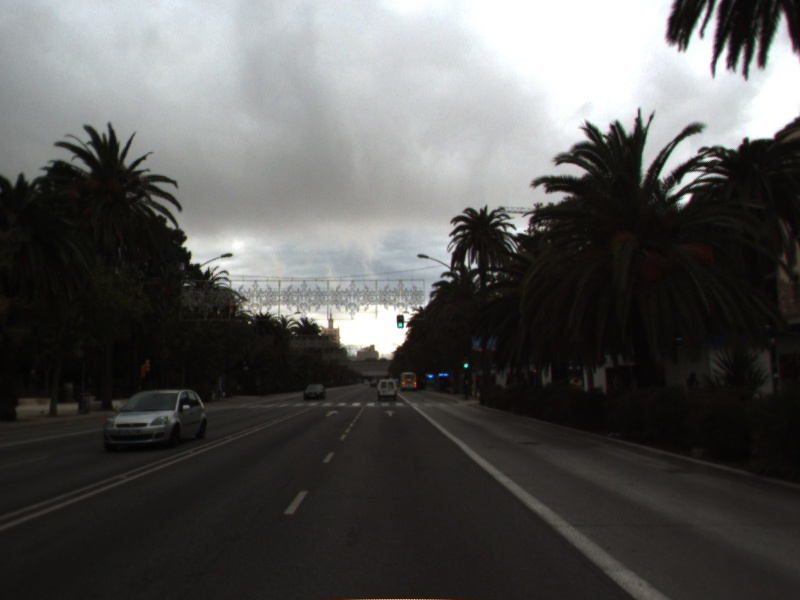STRAIGHT: (323, 408, 341, 419), (382, 408, 398, 418)
